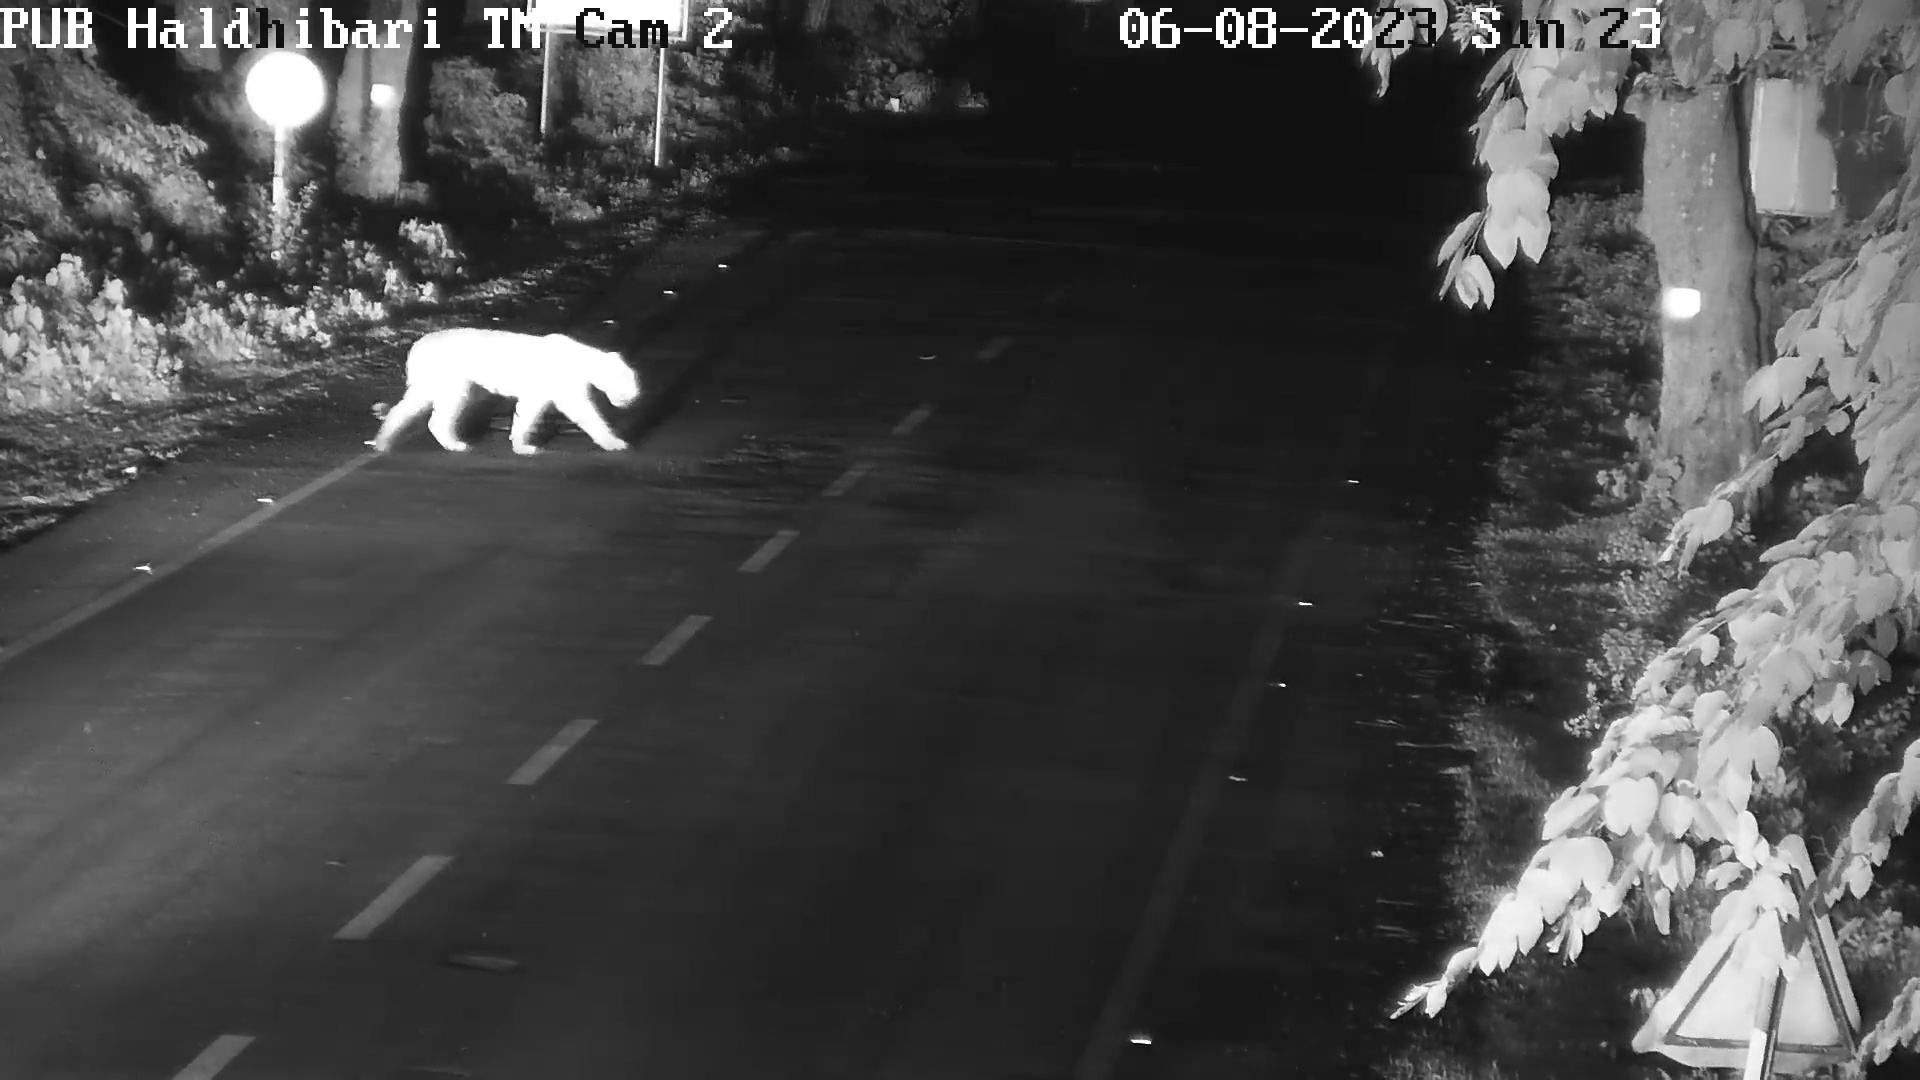tigers: (372, 324, 640, 465)
